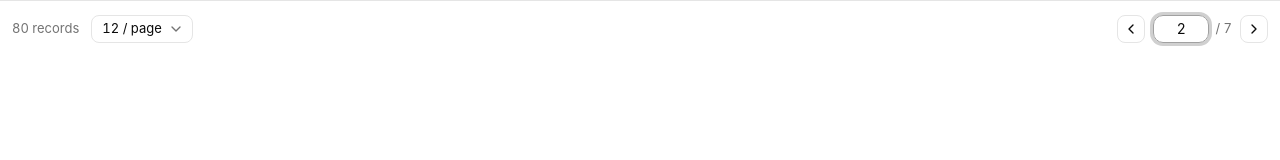
Scenario: commits a typed page once on Enter and clamps it to the available range
Replace the text in the field named "Current page" with "99" at (1181, 28), box [1153,14,1209,42]
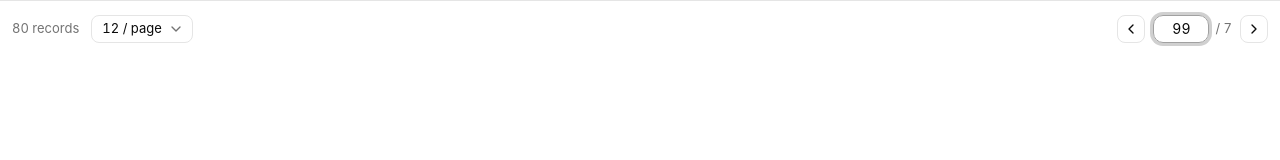
Press Enter in the field named "Current page", box [1153,14,1209,42]
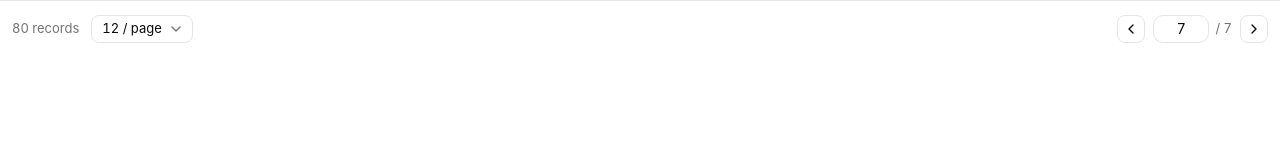
Expected: the field named "Current page" holds "7", [1153,14,1209,42]
